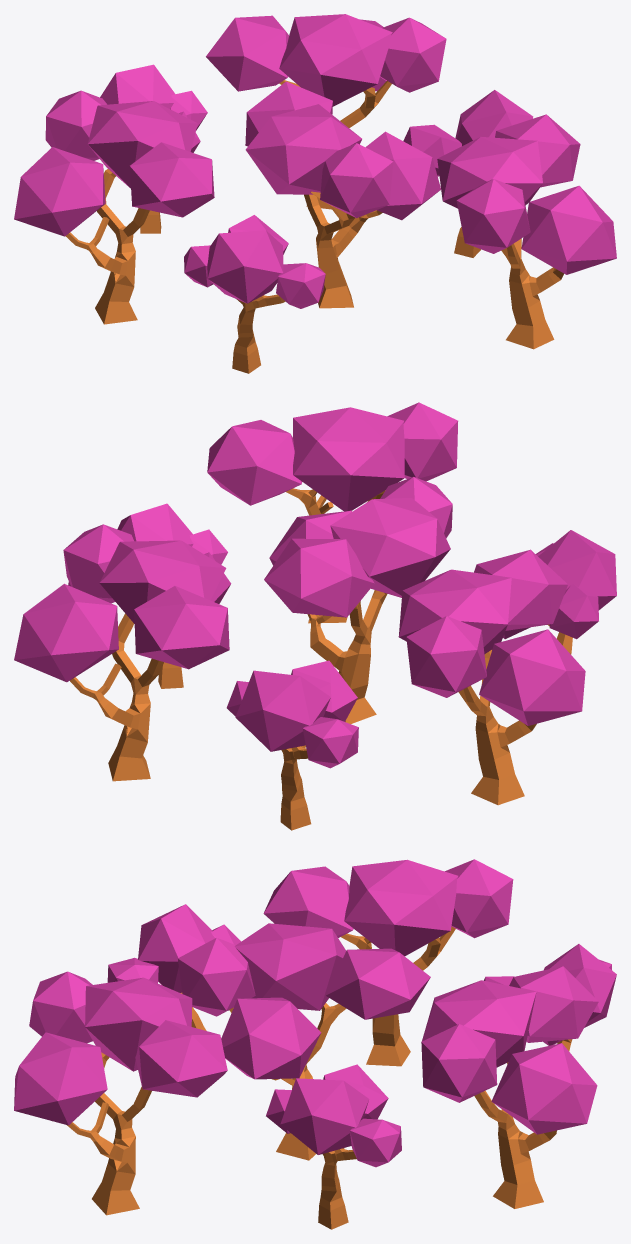
Rendered from trees.fbx.
3 renders of one model, top to bottom at view 1: azimuth 30°, elevation 25°; view 2: azimuth 150°, elevation 25°; view 3: azimuth 270°, elevation 25°, orthographic. The views are drawn at different scales.
Parts seen in each view (by area): view 1: Leaves, Wood; view 2: Leaves, Wood; view 3: Leaves, Wood.
Part boxes in pixels (bbox=[...]): Leaves: bbox=[14, 14, 616, 308]; Wood: bbox=[65, 80, 563, 373]; Leaves: bbox=[14, 402, 616, 768]; Wood: bbox=[70, 488, 572, 830]; Leaves: bbox=[14, 859, 616, 1167]; Wood: bbox=[67, 926, 572, 1229].
Bounding box in the file's own units: 1350 × 518 × 1382.
